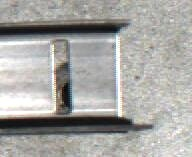40ngpress: (16, 20, 145, 132)
